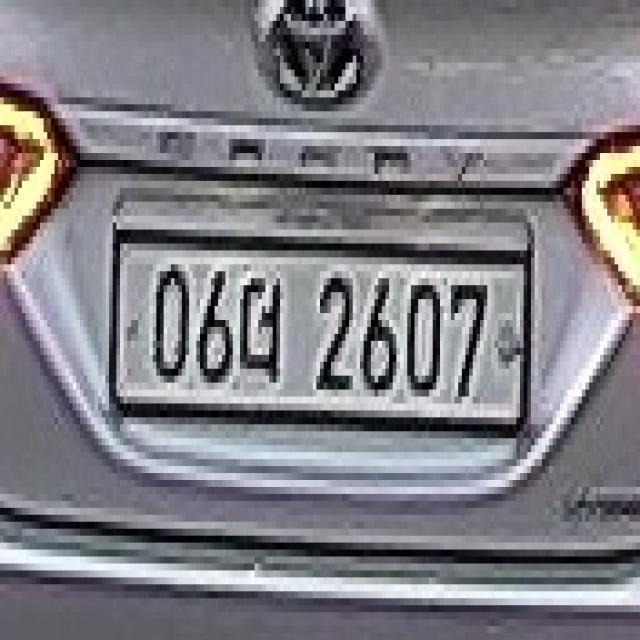0: (151, 253, 191, 393), (406, 276, 443, 400)
2: (312, 266, 355, 399)
6: (358, 270, 402, 404), (194, 263, 236, 392)
7: (447, 275, 493, 409)
deo: (240, 267, 290, 390)
license_plate: (90, 204, 548, 456)
